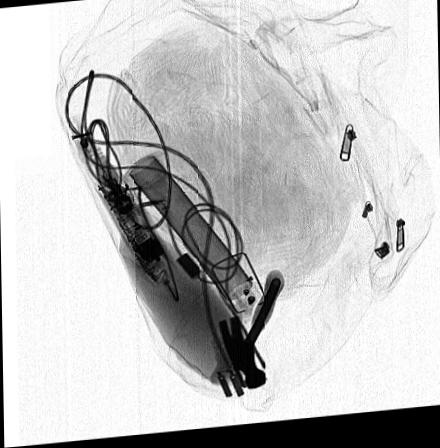Hammer: (217, 273, 284, 394)
